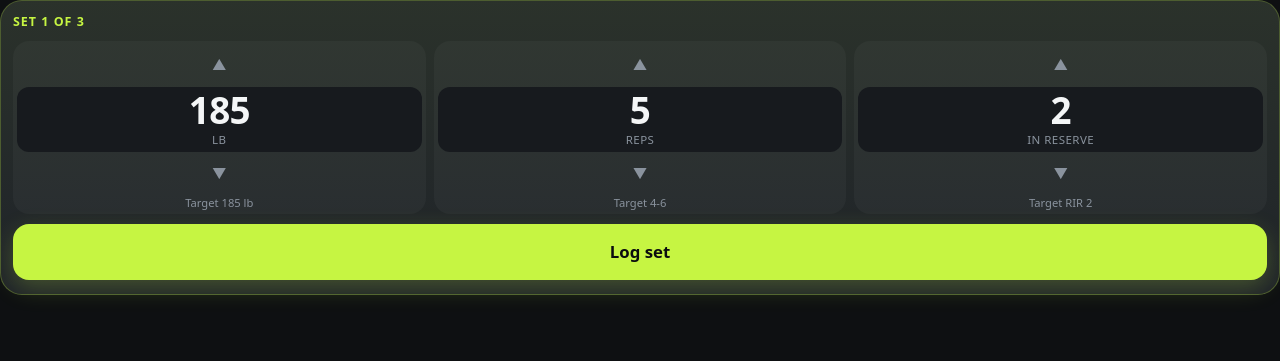
Test: SetLogger: numbers that look like slips (Maintenance 26, item 40) › asks once about a slip and logs nothing until the lifter answers
Click the button with test id "logger-weight" at (219, 120), box [17, 87, 422, 152]
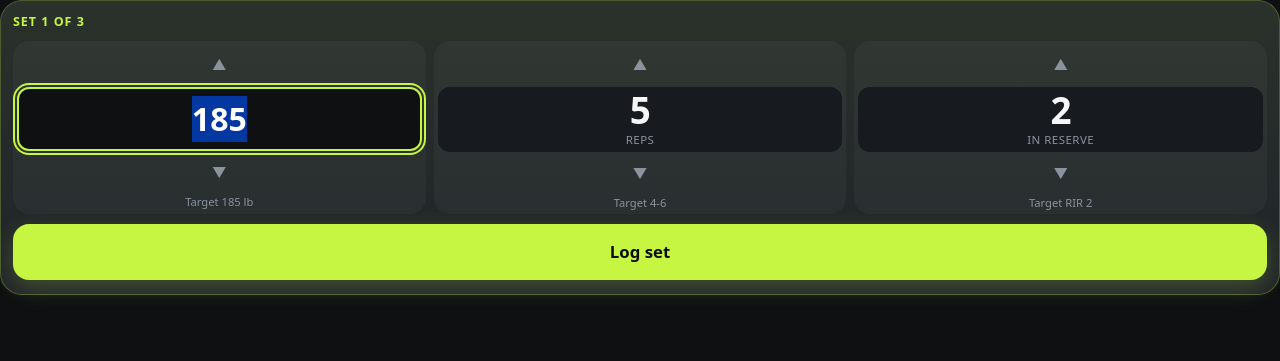
Replace the text in the number field named "Weight" with "1850" at (219, 119), box [17, 87, 422, 151]
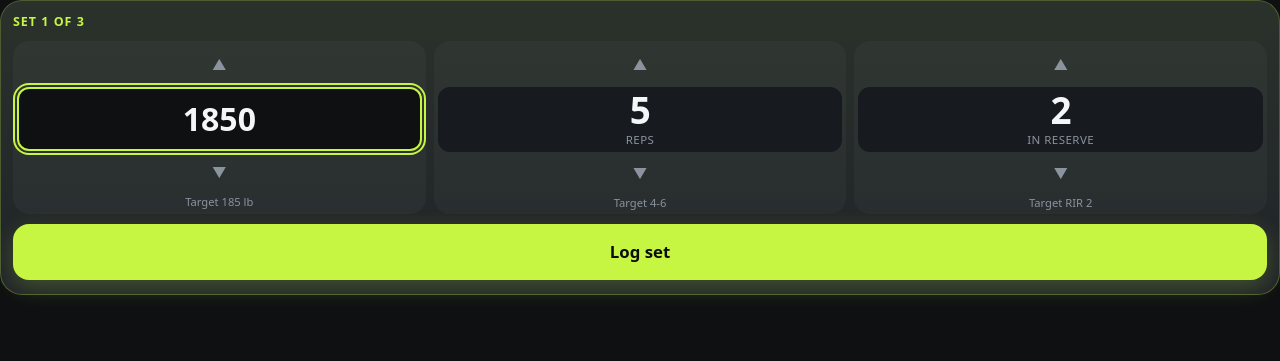
Click the button with test id "log-set" at (640, 252), box [13, 224, 1267, 280]
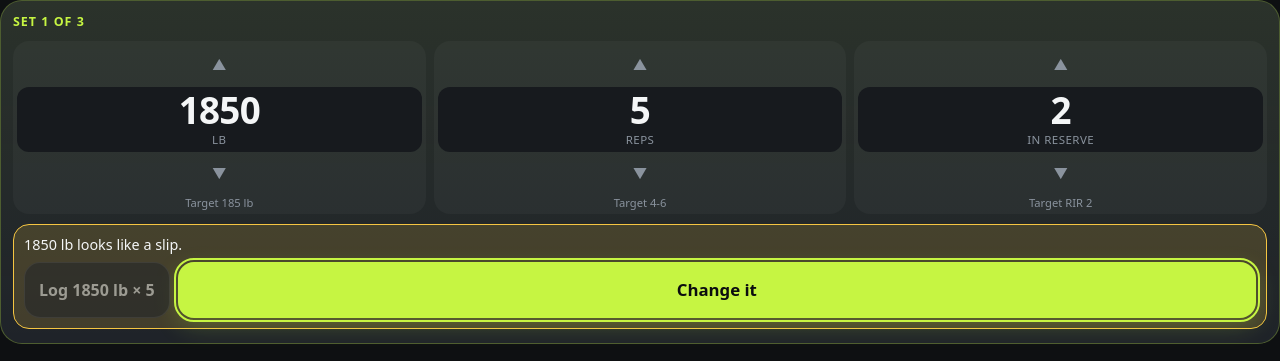
Expected: the message reads "1850 lb looks like a slip.", [24, 235, 182, 254]
Expected: the button with test id "log-set" is gone
Expected: the button with test id "slip-keep" reads "Log 1850 lb × 5", [24, 262, 170, 318]
